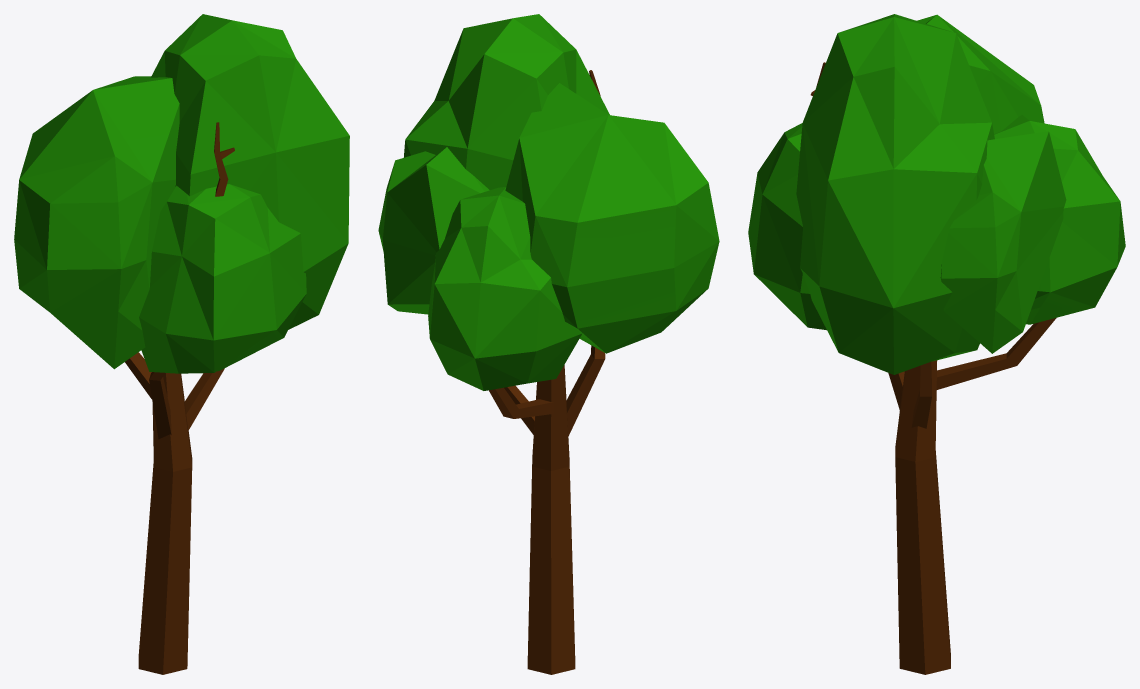
The model's file is Tree_temp_climate_007.FBX.
3 views of the same model, side by side, from view 1: azimuth 30°, elevation 25°; view 2: azimuth 150°, elevation 25°; view 3: azimuth 270°, elevation 25° (orthographic). The views are drawn at different scales.
Parts seen in each view (by area): view 1: Tree_temp_climate_007; view 2: Tree_temp_climate_007; view 3: Tree_temp_climate_007.
Boxes of the visible parts, x1,y1,x2,y2 form: Tree_temp_climate_007: [14, 14, 349, 674]; Tree_temp_climate_007: [378, 14, 719, 674]; Tree_temp_climate_007: [748, 14, 1125, 674].
Size of the model in its own units: 292 by 584 by 297.
